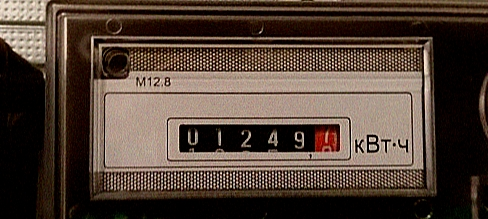0: (185, 127, 199, 147)
1: (212, 127, 224, 148)
2: (237, 128, 253, 150)
4: (266, 128, 279, 148)
7: (320, 125, 333, 145)
9: (292, 130, 305, 151)
screen: (163, 114, 354, 164)
